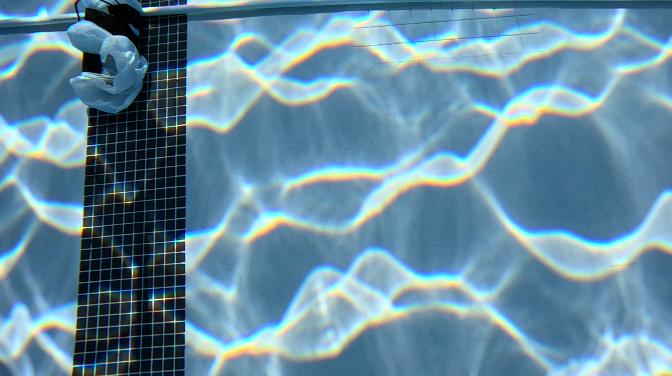sandbag: (76, 0, 143, 111)
